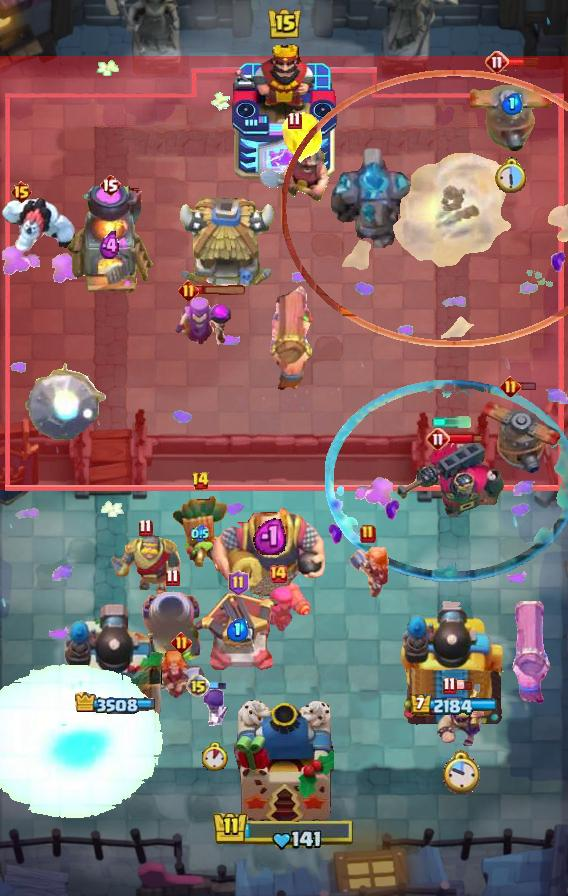arrows: (434, 684, 486, 746)
bandit: (259, 131, 330, 203)
battle-healer: (268, 278, 316, 392), (507, 601, 553, 705)
cannoneer-tower: (331, 145, 421, 249)
clock: (212, 810, 356, 852)
dark-prince: (477, 388, 567, 474), (470, 64, 554, 152)
electro-spirit: (253, 516, 287, 555), (99, 231, 121, 261), (227, 618, 249, 642), (501, 93, 522, 115), (191, 525, 209, 543)
elixir: (440, 750, 479, 796), (495, 158, 529, 195), (202, 742, 228, 770)
emote: (196, 285, 248, 296), (449, 431, 484, 444), (506, 56, 540, 67), (209, 680, 228, 692), (454, 680, 473, 692), (518, 381, 537, 391)
firecracker: (110, 535, 181, 595)
giant-skeleton: (211, 502, 327, 602)
goblin: (199, 688, 231, 728)
goblin-barrel: (170, 493, 230, 573)
goblin-cage: (140, 590, 204, 660)
hog-rider: (155, 649, 207, 703), (345, 547, 391, 601)
hunter: (66, 186, 154, 296)
ice-spirit: (430, 416, 472, 428)
inferno-tower: (395, 438, 507, 524)
king-tower: (230, 41, 338, 181), (234, 700, 334, 826)
lava-pup: (194, 592, 282, 674)
mega-knight: (0, 661, 168, 823)
pad_0: (324, 379, 567, 583)
prince: (175, 198, 277, 294)
rage: (0, 195, 78, 255)
rascal-girl: (175, 294, 235, 348)
royal-ghost: (280, 70, 568, 347)
selected: (409, 694, 497, 717), (73, 692, 155, 715)
text: (485, 50, 509, 74), (426, 427, 450, 451), (186, 674, 210, 698), (10, 180, 33, 204), (227, 570, 248, 596), (99, 173, 121, 197), (172, 631, 193, 653), (178, 280, 199, 301), (499, 376, 520, 397), (268, 564, 288, 584), (191, 471, 210, 491), (360, 524, 376, 544), (287, 111, 302, 130), (138, 519, 153, 538), (442, 677, 457, 695), (165, 568, 179, 587)
tombstone: (264, 579, 314, 633)
tower-bar: (397, 595, 509, 731), (64, 601, 164, 731)
valkyrie: (279, 109, 327, 171)
x-bow: (24, 362, 107, 442)
